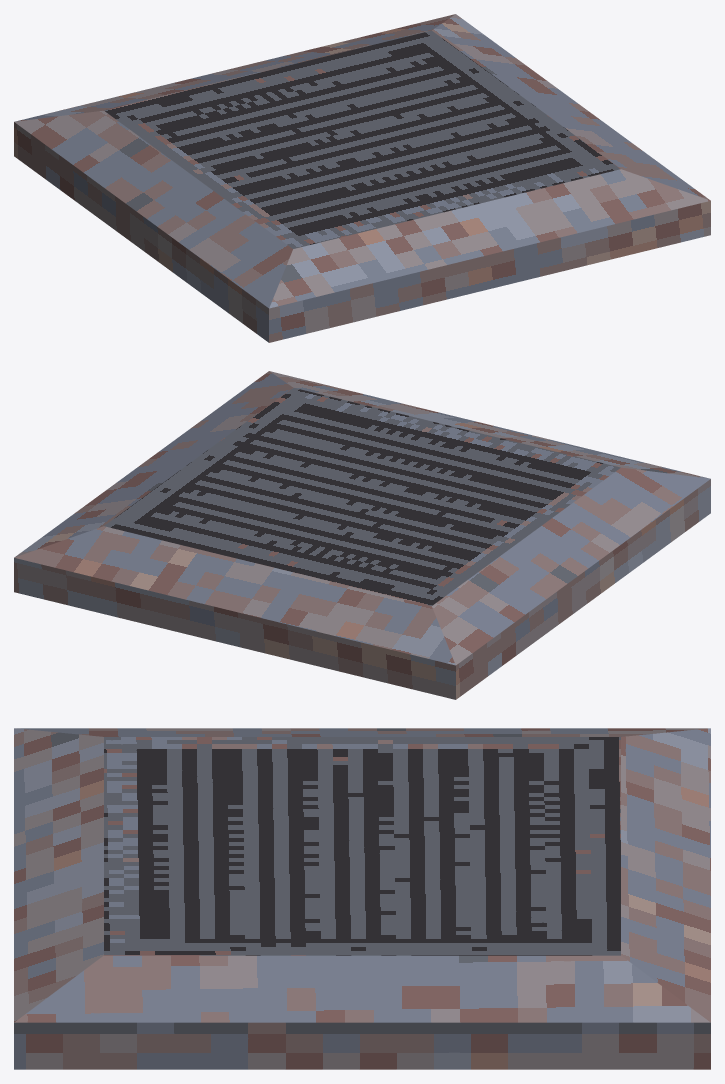
File: Vent.fbx
3 renders of one model, top to bottom at view 1: azimuth 30°, elevation 25°; view 2: azimuth 150°, elevation 25°; view 3: azimuth 270°, elevation 25°, orthographic. The views are drawn at different scales.
Visible parts, largest first — view 1: Cube; view 2: Cube; view 3: Cube.
Part boxes in pixels (left/top/right/bottom): Cube: left=14, top=14, right=710, bottom=342; Cube: left=14, top=371, right=710, bottom=699; Cube: left=14, top=728, right=710, bottom=1069.
Bounding box in the file's own units: 96.06 × 11.6 × 96.06.
1 material, 1 textured.
